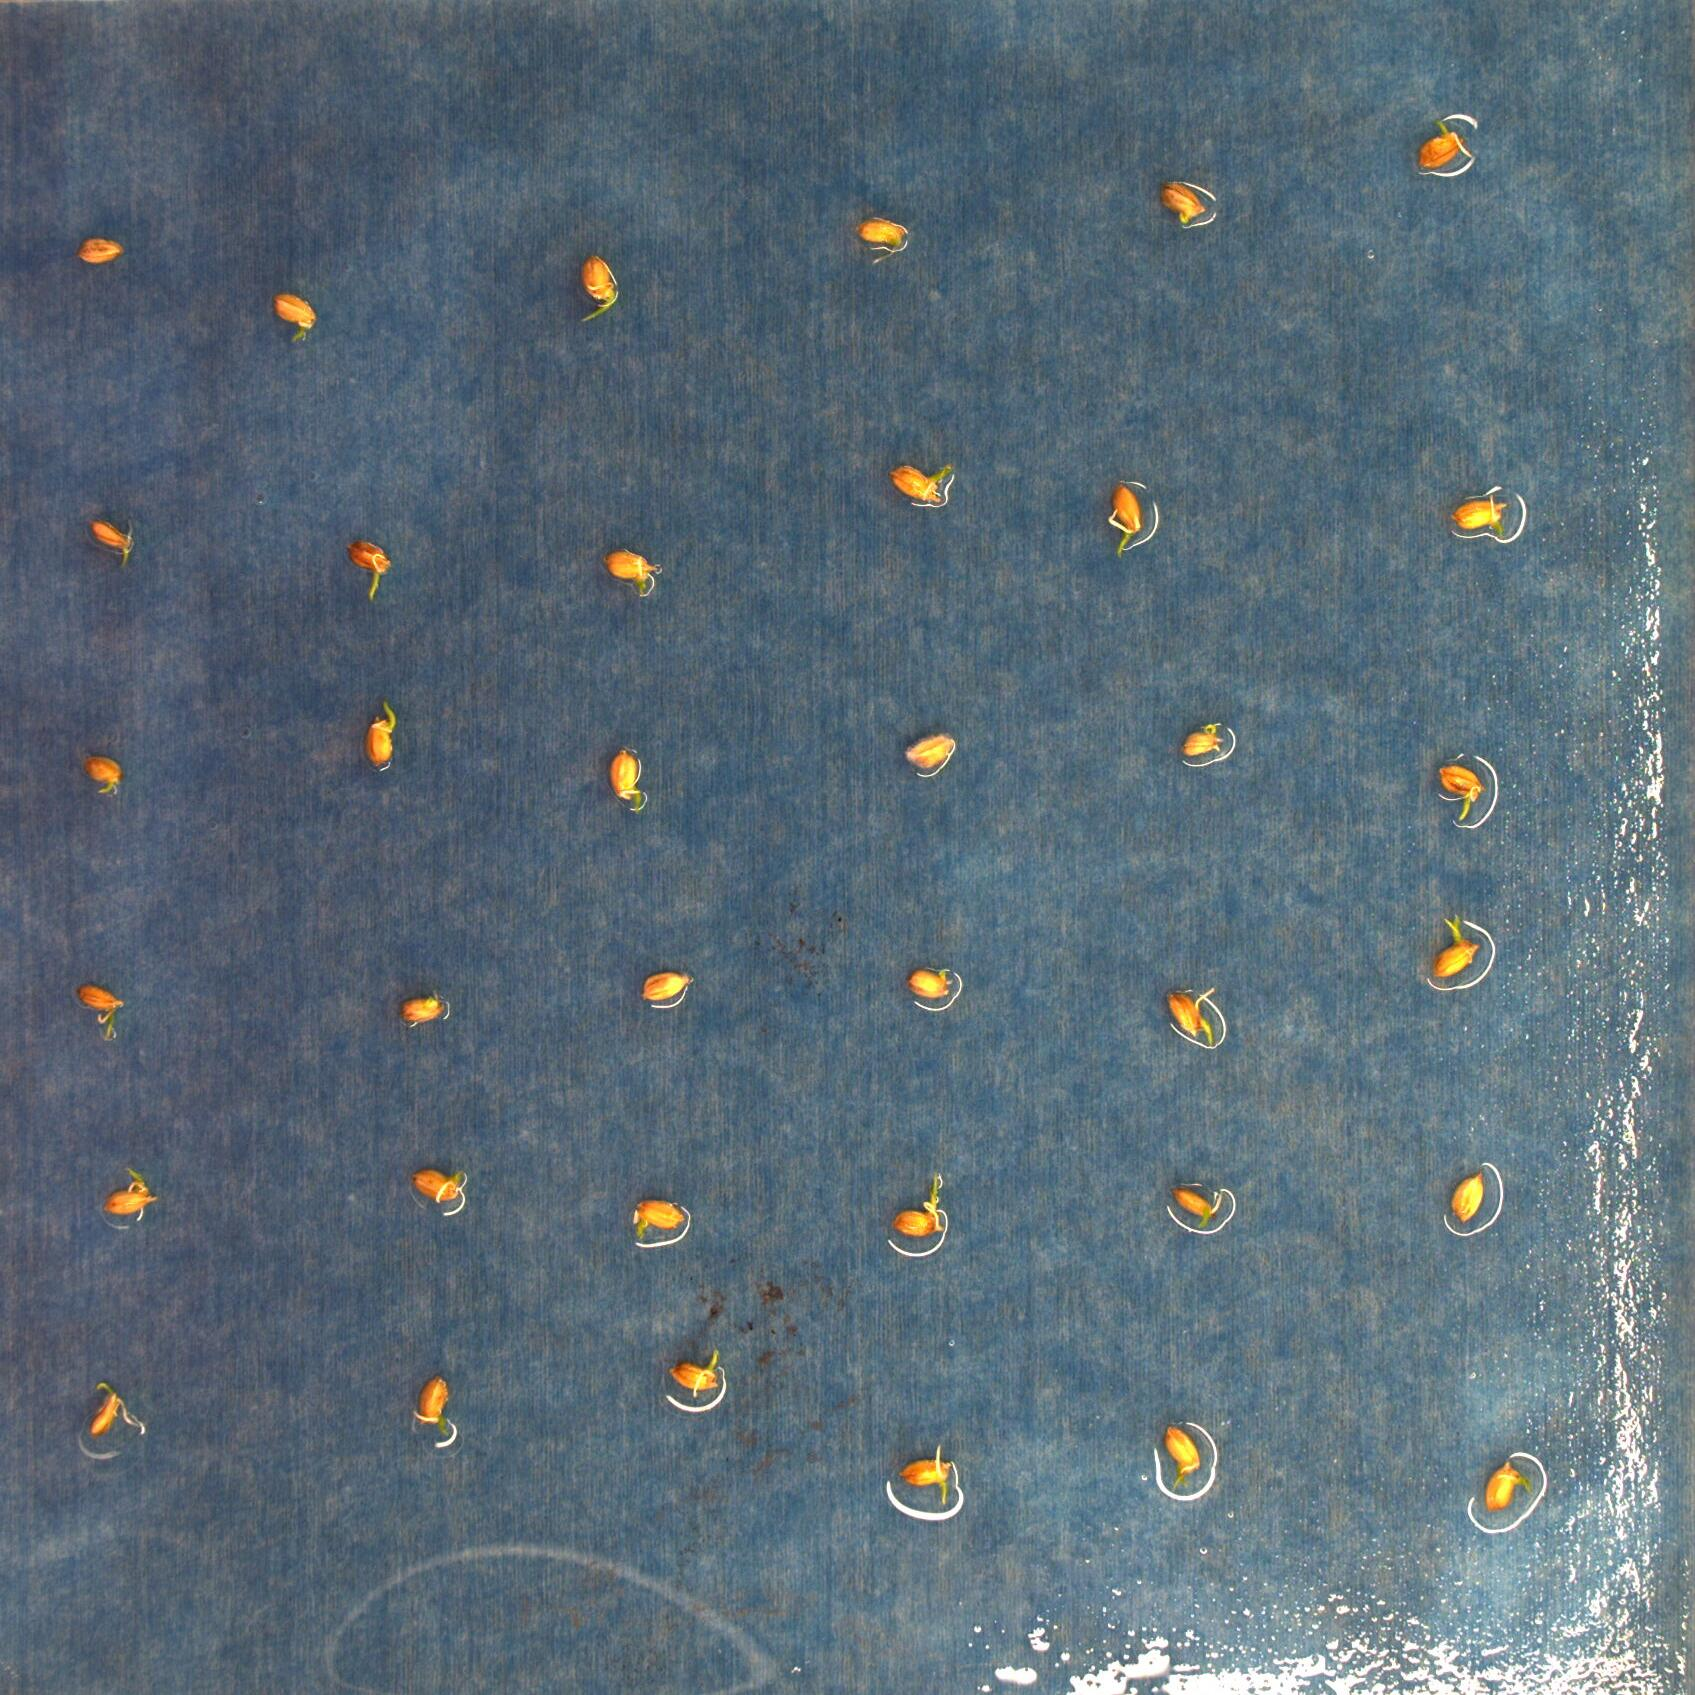not sprout: (87, 1380, 140, 1437), (1172, 1178, 1225, 1232), (1164, 1425, 1203, 1492), (1419, 120, 1465, 172), (855, 216, 906, 262), (410, 1166, 464, 1205), (1450, 1167, 1485, 1226), (1159, 180, 1205, 227), (90, 518, 133, 565), (905, 734, 955, 775), (84, 753, 123, 795), (1180, 723, 1226, 757), (641, 972, 691, 1003), (906, 965, 951, 1000), (400, 995, 445, 1026), (78, 237, 124, 265)
sprout: (891, 1170, 947, 1239), (1433, 914, 1481, 979), (900, 1444, 951, 1504), (345, 537, 393, 601), (604, 545, 660, 599), (577, 251, 618, 324), (1166, 989, 1215, 1048), (1439, 761, 1485, 821), (607, 745, 646, 816), (888, 463, 951, 506), (413, 1372, 453, 1440), (104, 1167, 158, 1215), (1485, 1461, 1534, 1513), (78, 984, 124, 1038), (1111, 481, 1144, 557), (1450, 497, 1509, 539), (633, 1198, 685, 1246), (272, 292, 317, 346), (671, 1347, 720, 1392), (365, 702, 397, 767)
